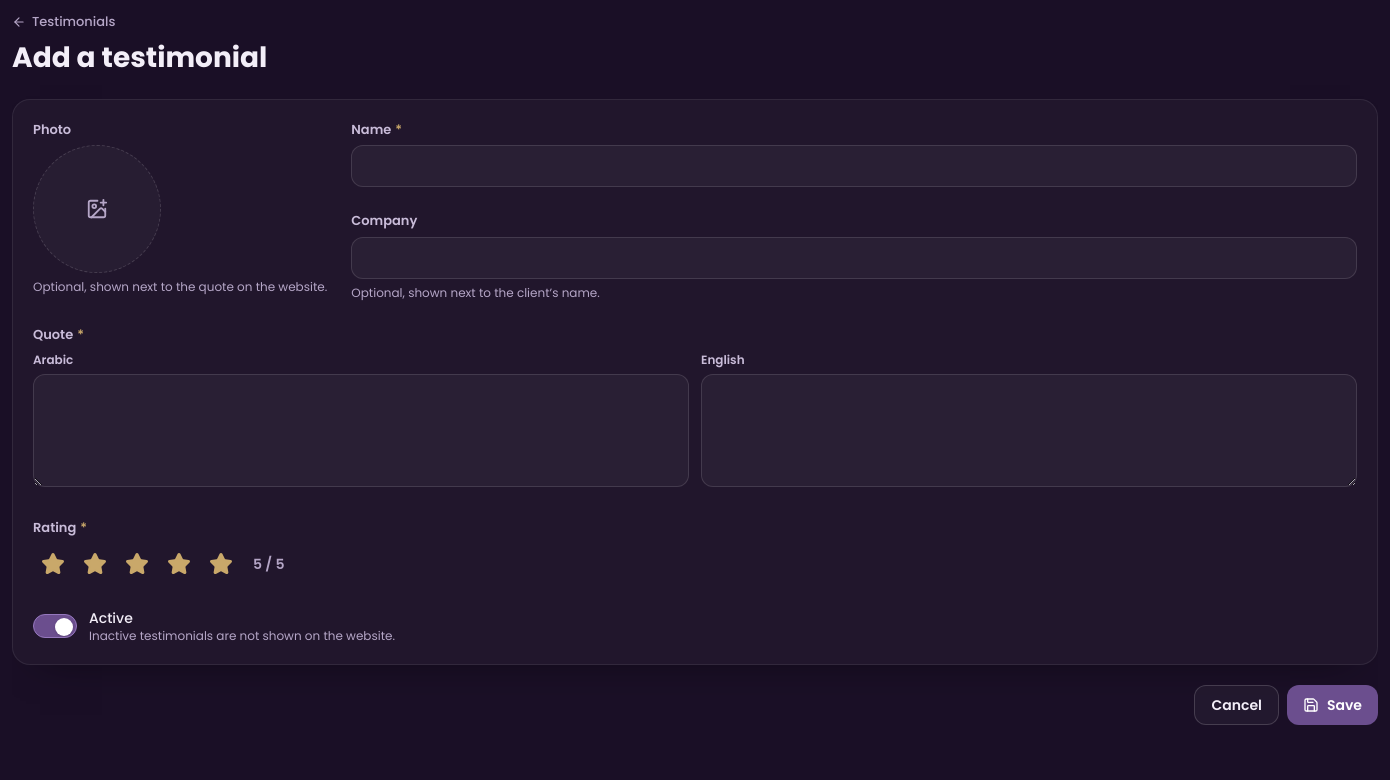
TestimonialCreate › shows a toast when the server is down (and keeps the form)
This screenshot has width=1390, height=780.
Type "Omar Khaled" into the field labelled "Name" at (854, 166), box [351,145,1357,187]
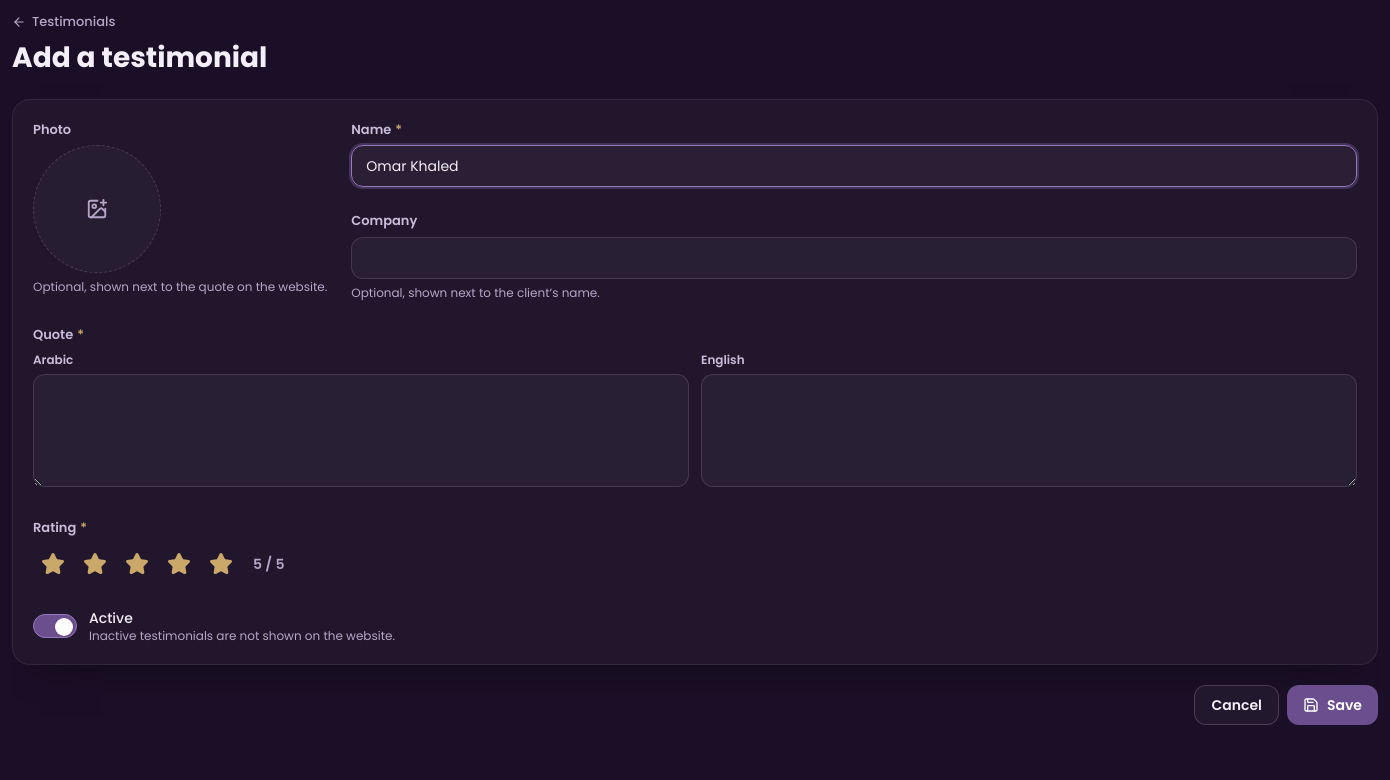
Type "ممتاز" into the text box named "Quote (Arabic)" at (361, 431), box [33,374,689,487]
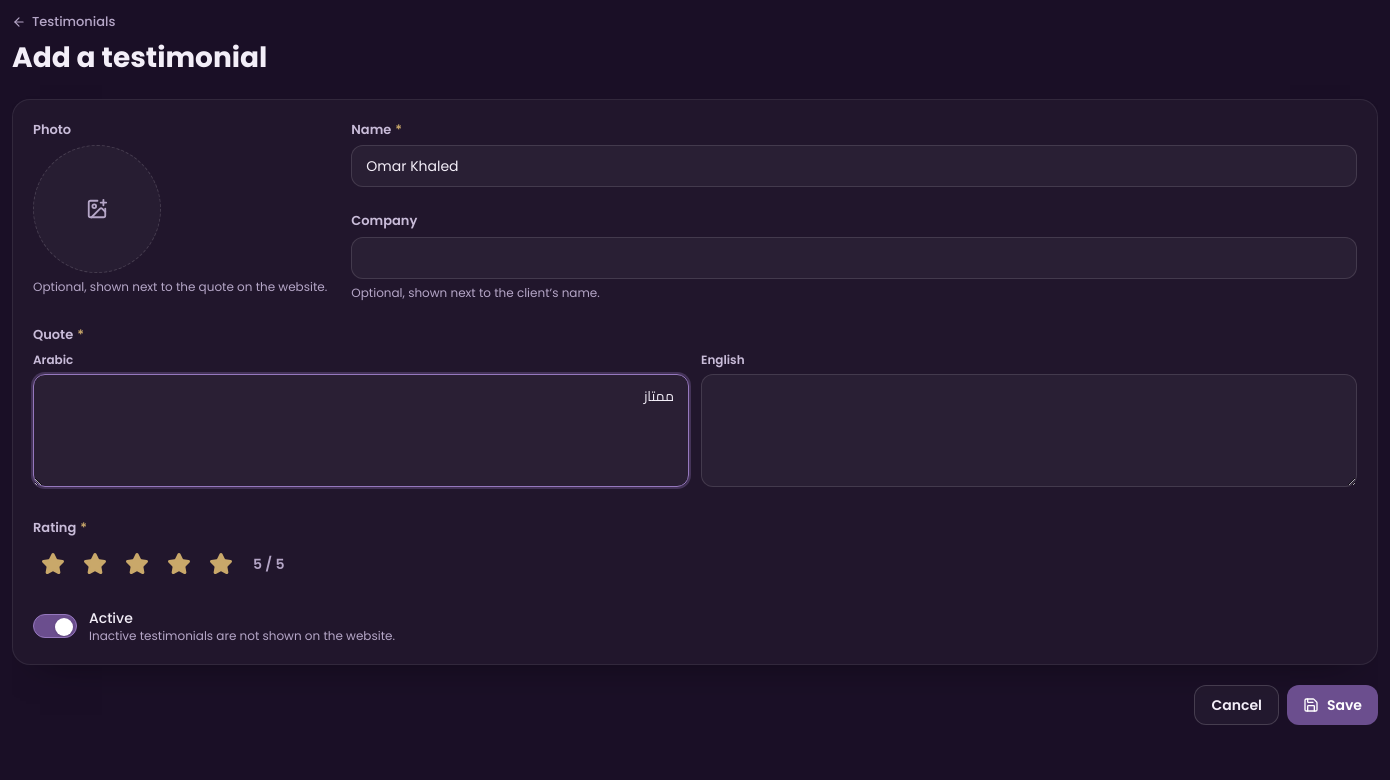
Type "Great work" into the text box named "Quote (English)" at (1029, 431), box [701,374,1357,487]
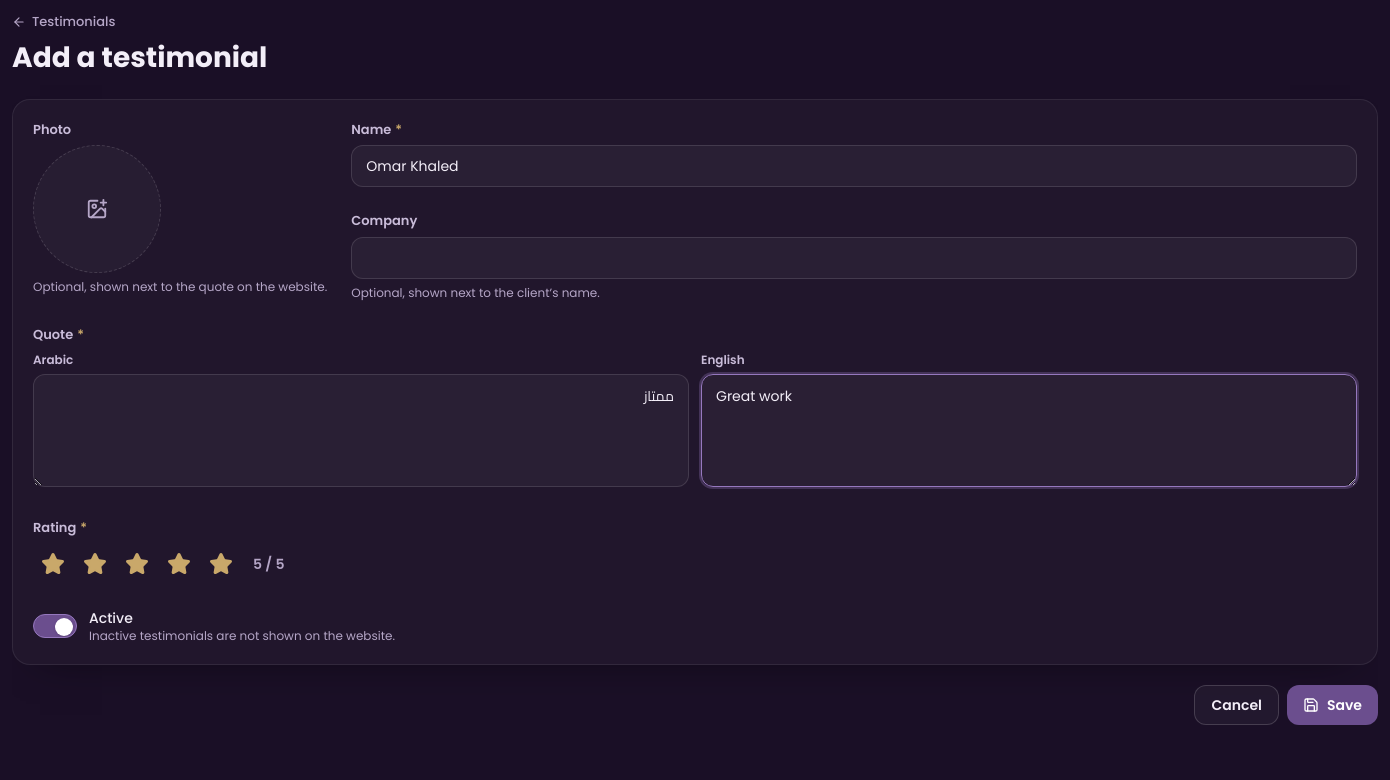
Click the button "Save" at (1332, 705), box [1287,685,1378,725]
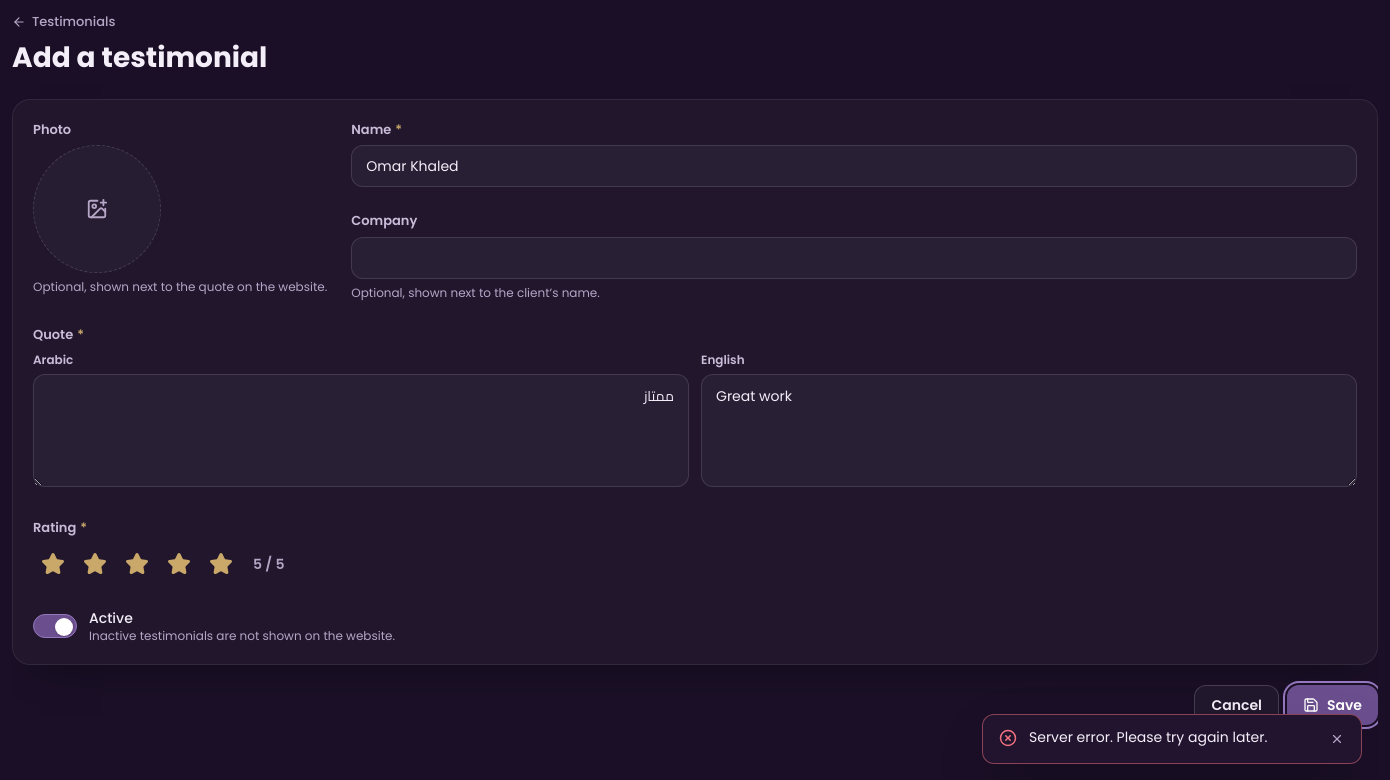
Now the text "Server error. Please try again later." is shown, box [1029,727,1267,747]
